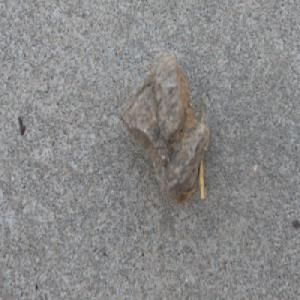Rock: (118, 48, 210, 205)
